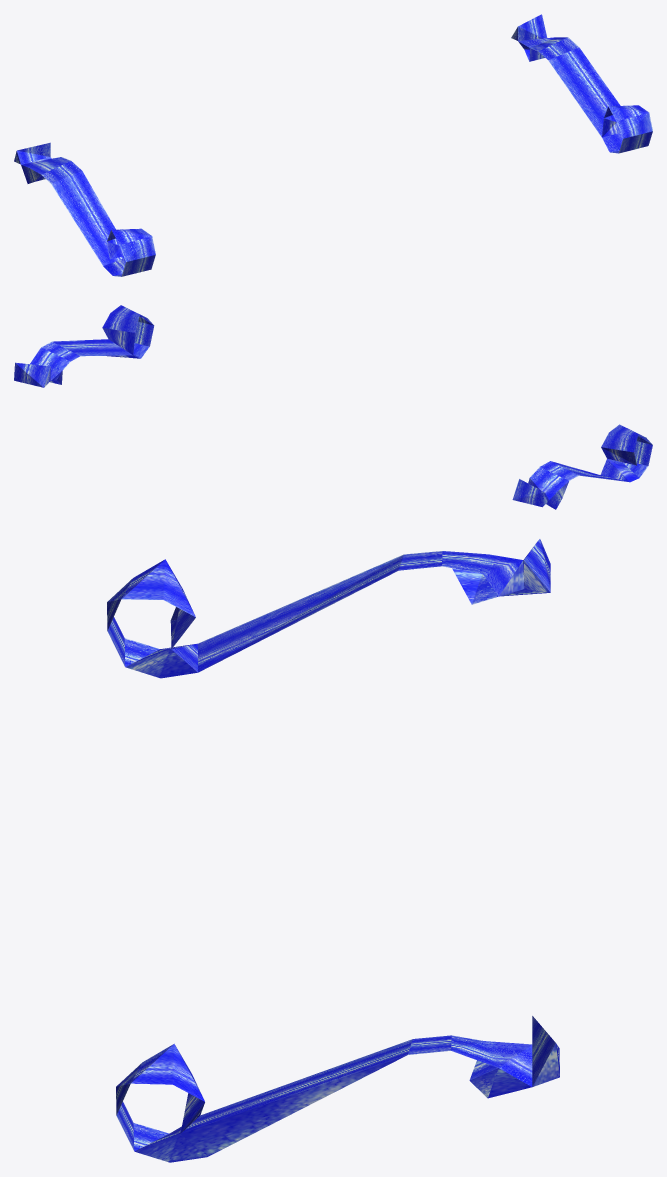
3 renders of one model, top to bottom at view 1: azimuth 30°, elevation 25°; view 2: azimuth 150°, elevation 25°; view 3: azimuth 270°, elevation 25°, orthographic. The views are drawn at different scales.
Size of the model in its own units: 0.4718 by 0.0511 by 0.1758.
Materials: 1 (1 with a texture image).
